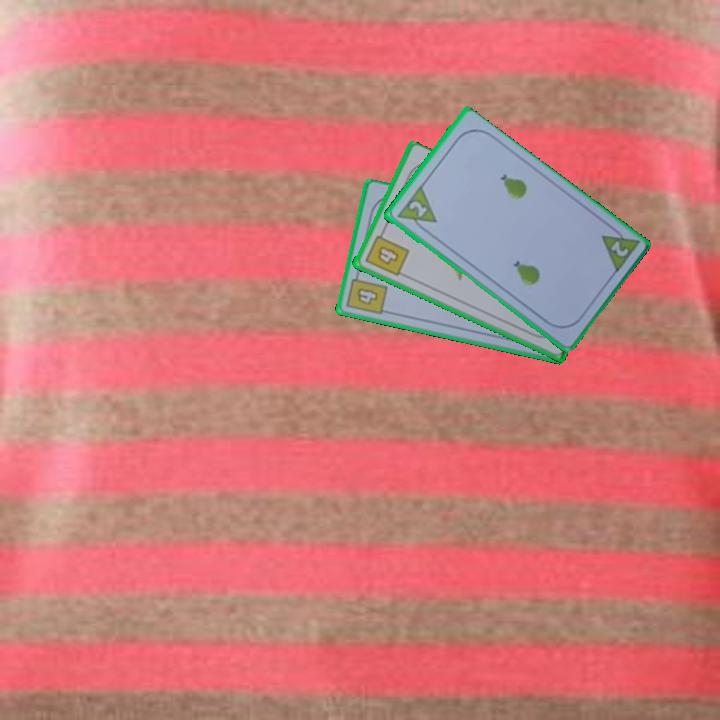2p: (597, 221, 641, 277), (393, 183, 439, 236)
4b: (361, 226, 411, 279), (343, 268, 390, 318)
